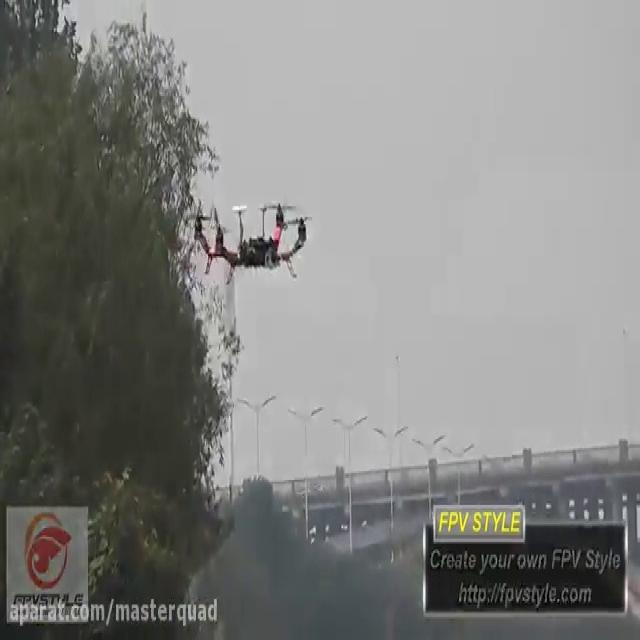drone: (180, 195, 320, 282)
